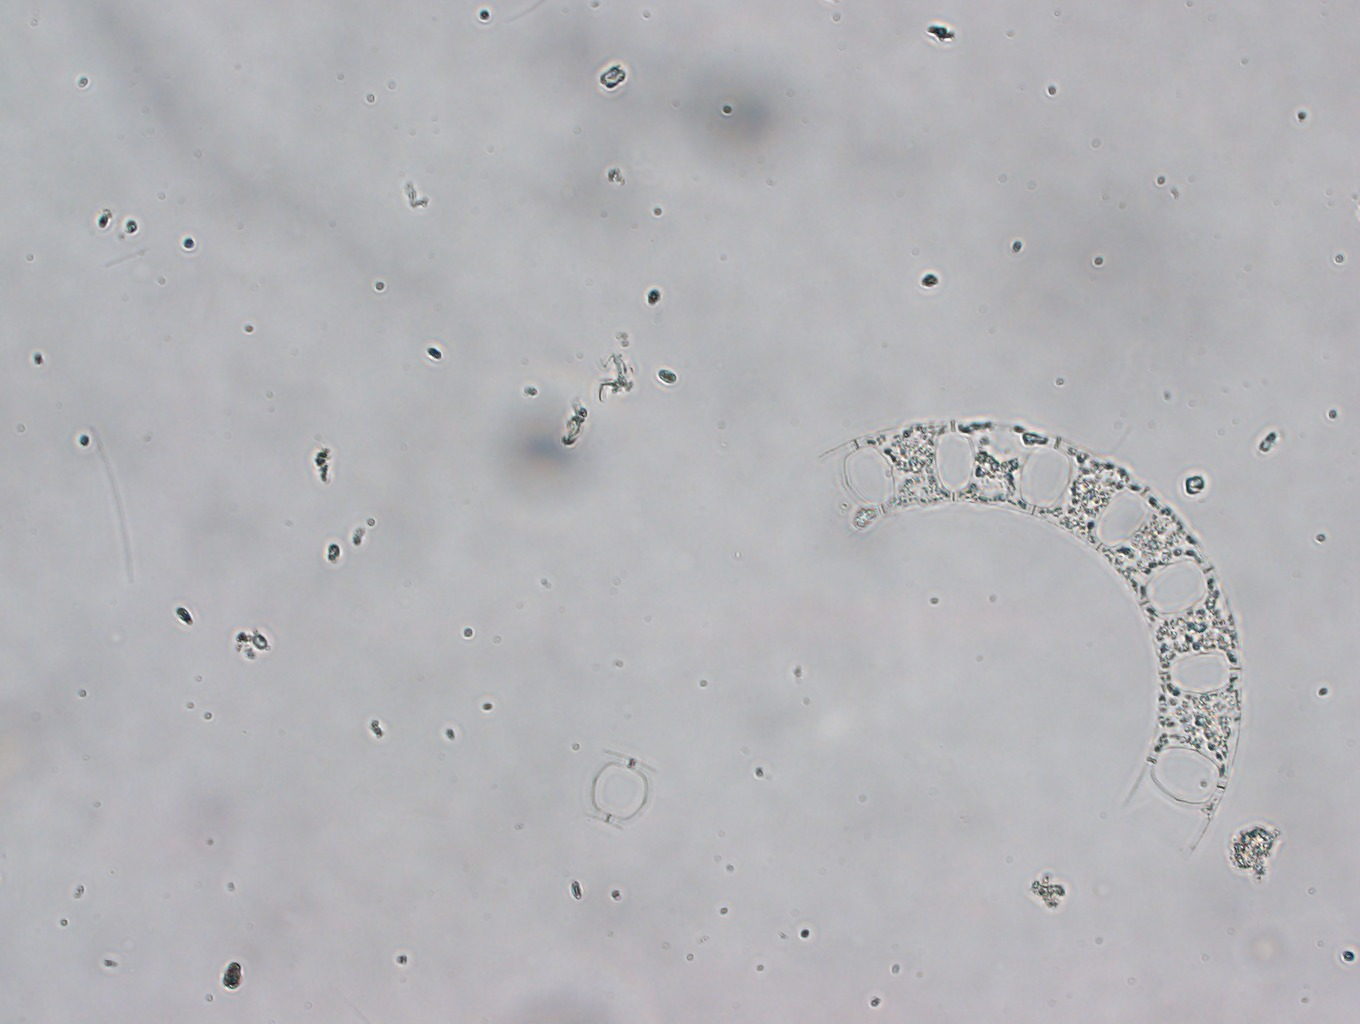eucampia: (814, 419, 1242, 855)
